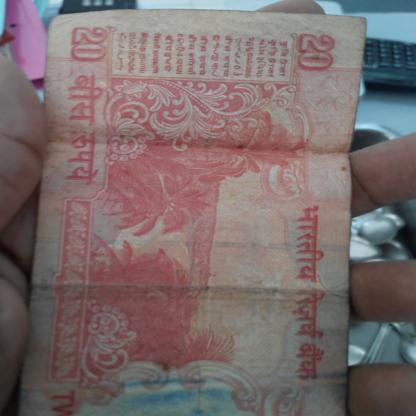Old20Back: (20, 8, 366, 416)
